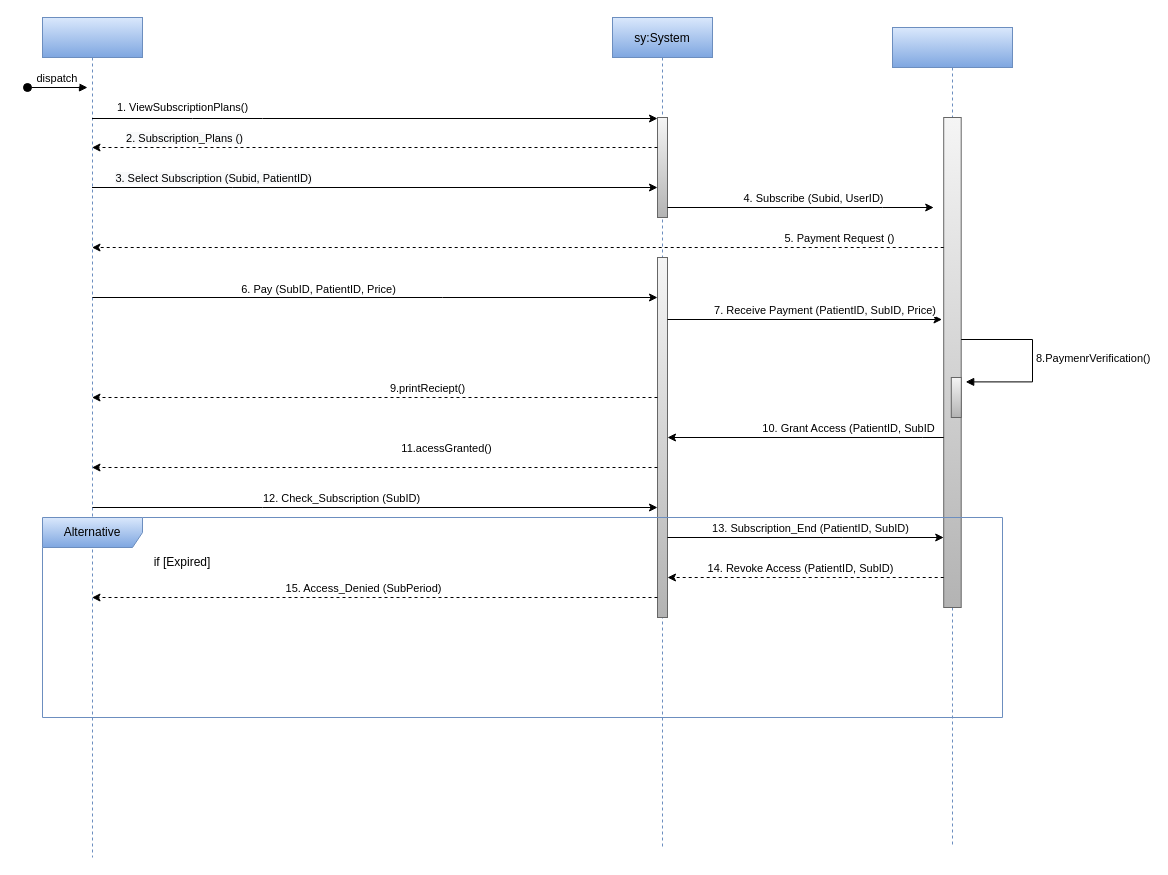
Image size: 1168x875. Some labels were removed from this diagram. The shapes that lost their labels are listed below. From the top down, each one's box as (x1, y1, x2, y2) in pixels, then its label:
(42, 16, 142, 858): pa:Patient
(892, 26, 1012, 848): py :PaymentGateway
